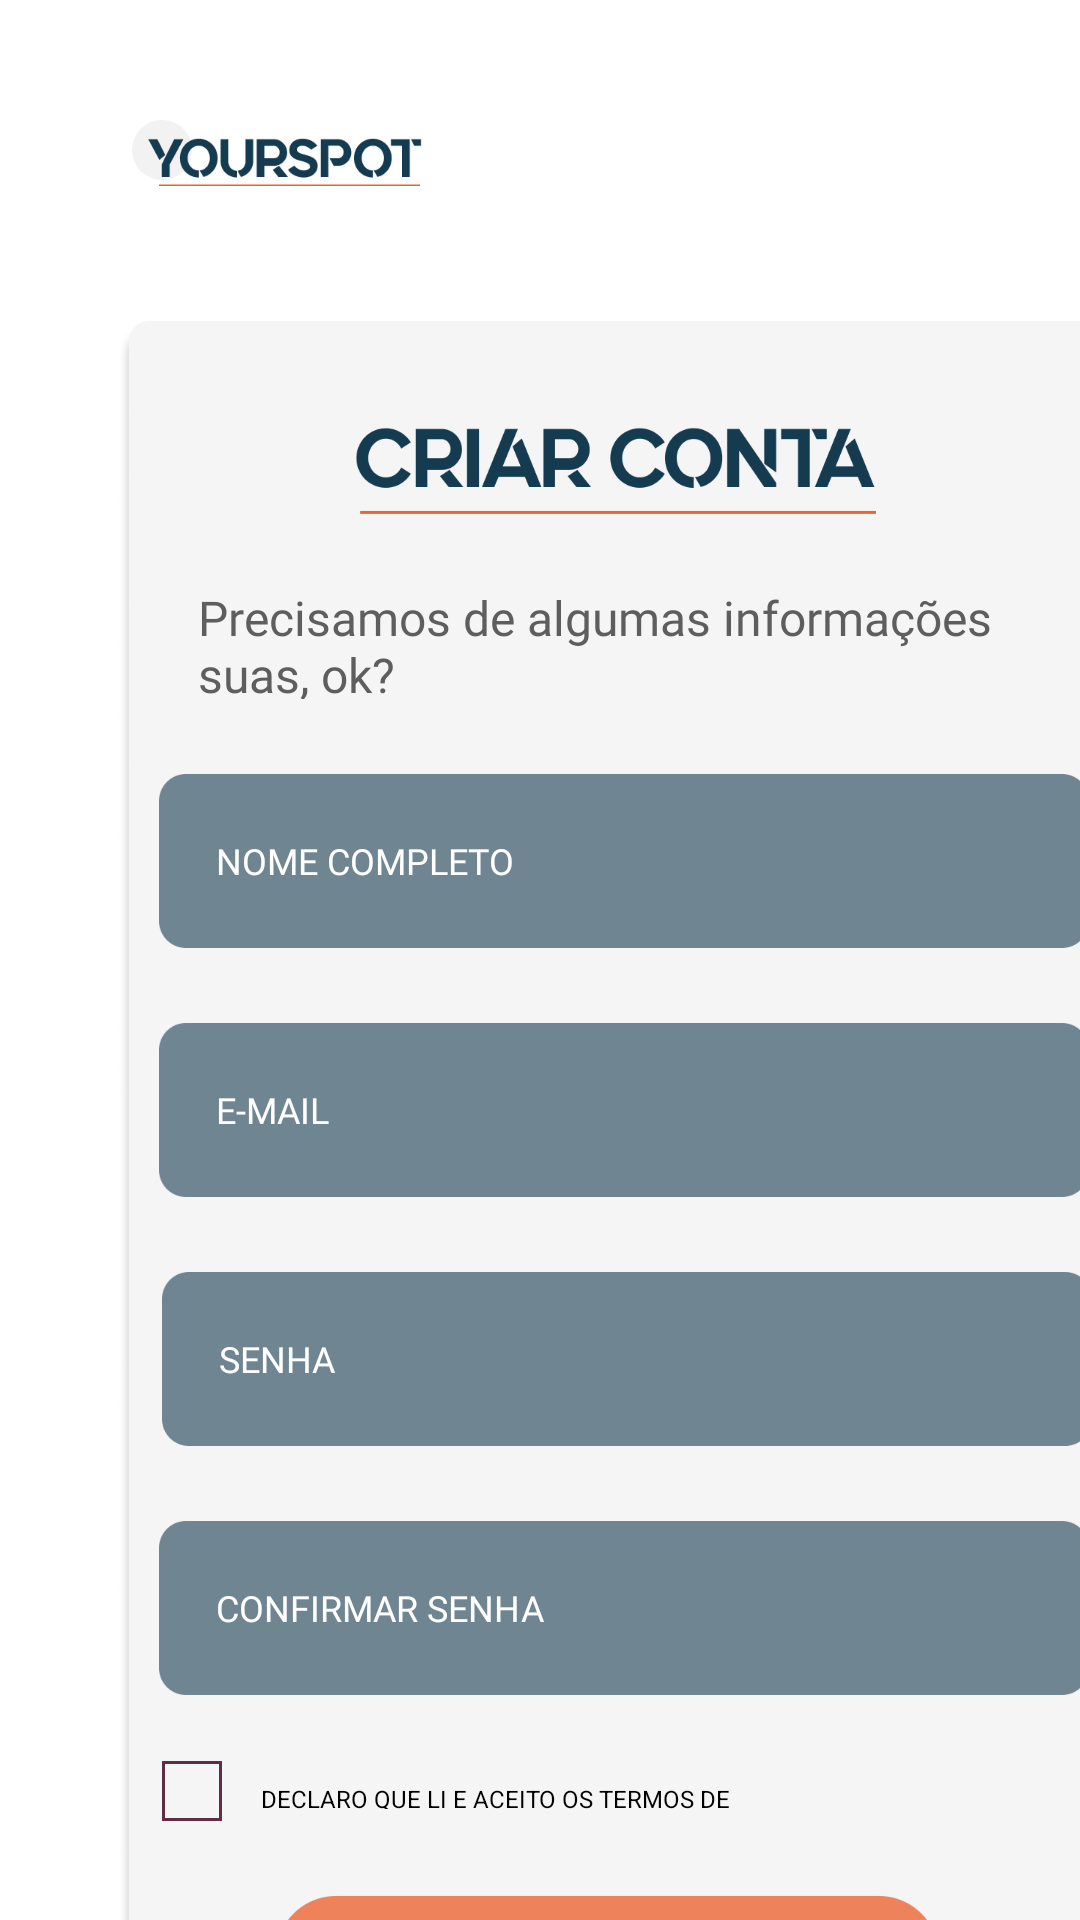

Icons on this 1080×1920 Android screen, each with the point to tap as point (x, y):
checkbox termos: point (192, 1791)
